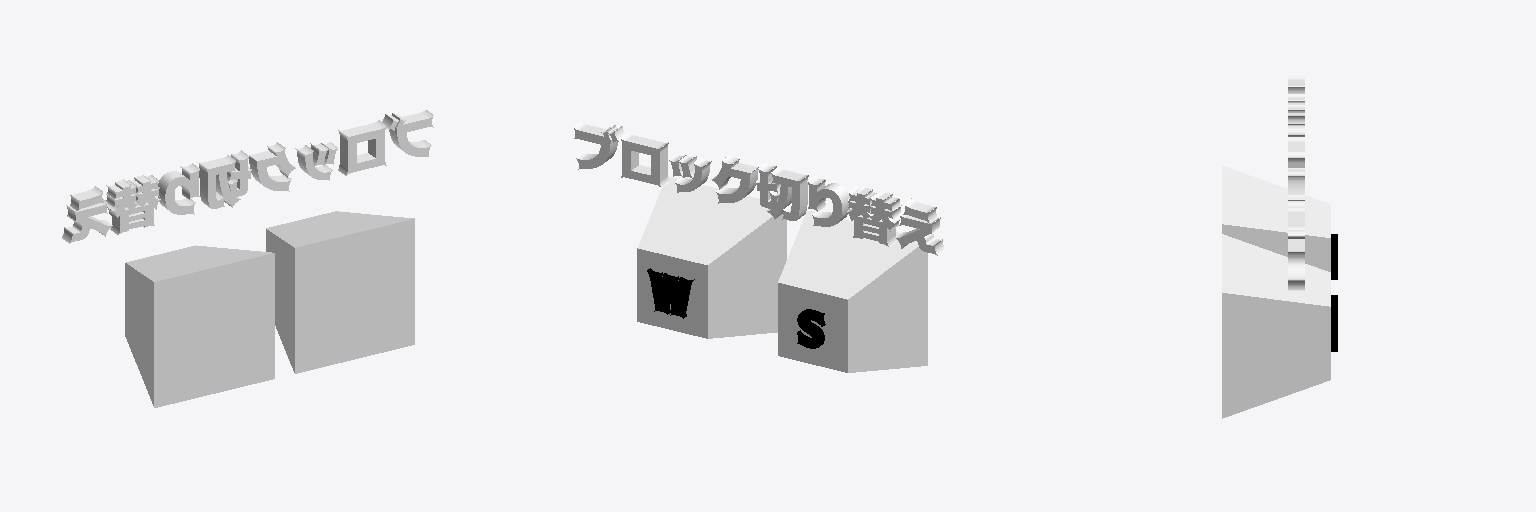
3 renders of one model, left to right at view 1: azimuth 30°, elevation 25°; view 2: azimuth 150°, elevation 25°; view 3: azimuth 270°, elevation 25°, orthographic.
Parts seen in each view (by area): view 1: テキスト.002; view 2: テキスト.002; view 3: テキスト.002.
Part boxes in pixels (x1,y1,x2,y2): テキスト.002: (62, 110, 433, 407); テキスト.002: (574, 121, 945, 372); テキスト.002: (1222, 75, 1337, 418).
Bounding box in the file's own units: 5.19 × 2.7 × 1.43.
Materials: 1 (1 with a texture image).